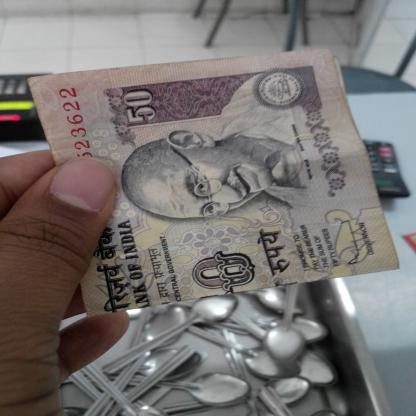Old50Front: (27, 47, 399, 318)
